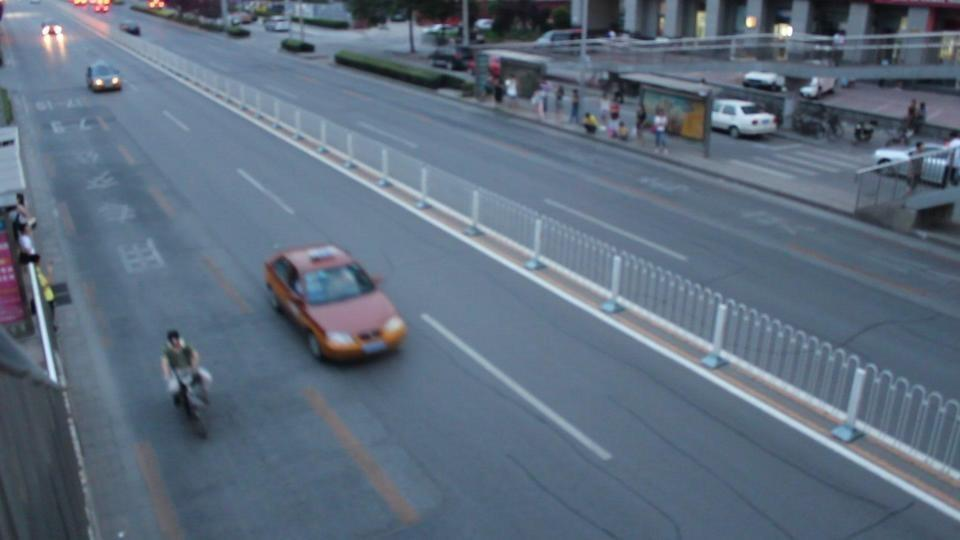car: (263, 242, 408, 364), (708, 99, 779, 139), (85, 61, 123, 93), (797, 76, 838, 100), (742, 71, 785, 93), (264, 17, 291, 33)
